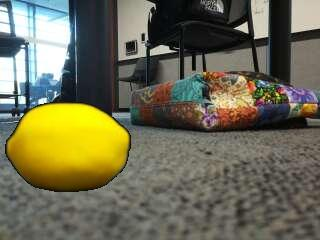lemon: (8, 103, 129, 190)
